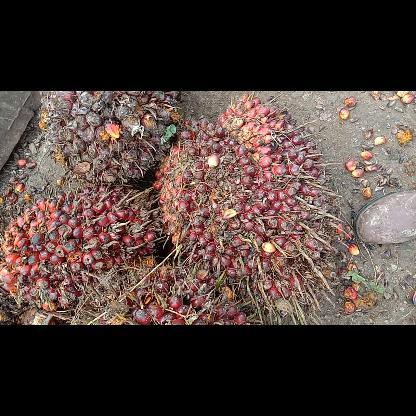Kurang masak: (36, 90, 184, 186)
TBS masak: (150, 90, 342, 324), (0, 178, 160, 316), (84, 256, 254, 324)
